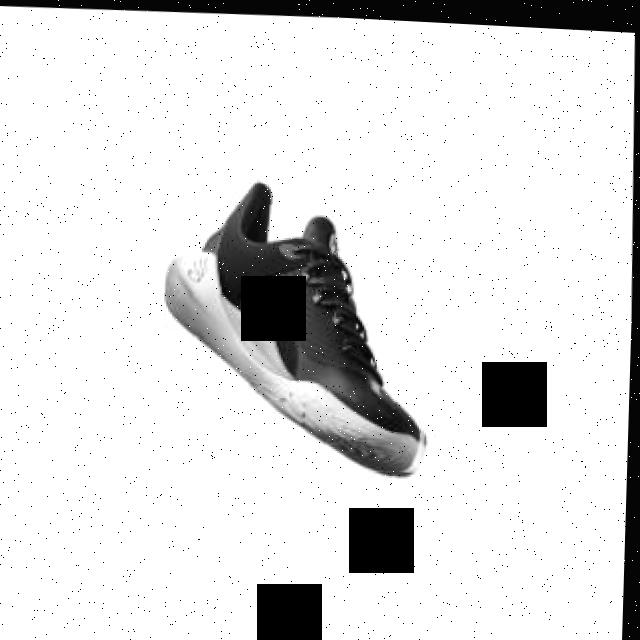shoe: (160, 172, 440, 477)
